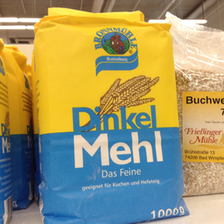flour: (33, 14, 192, 223)
